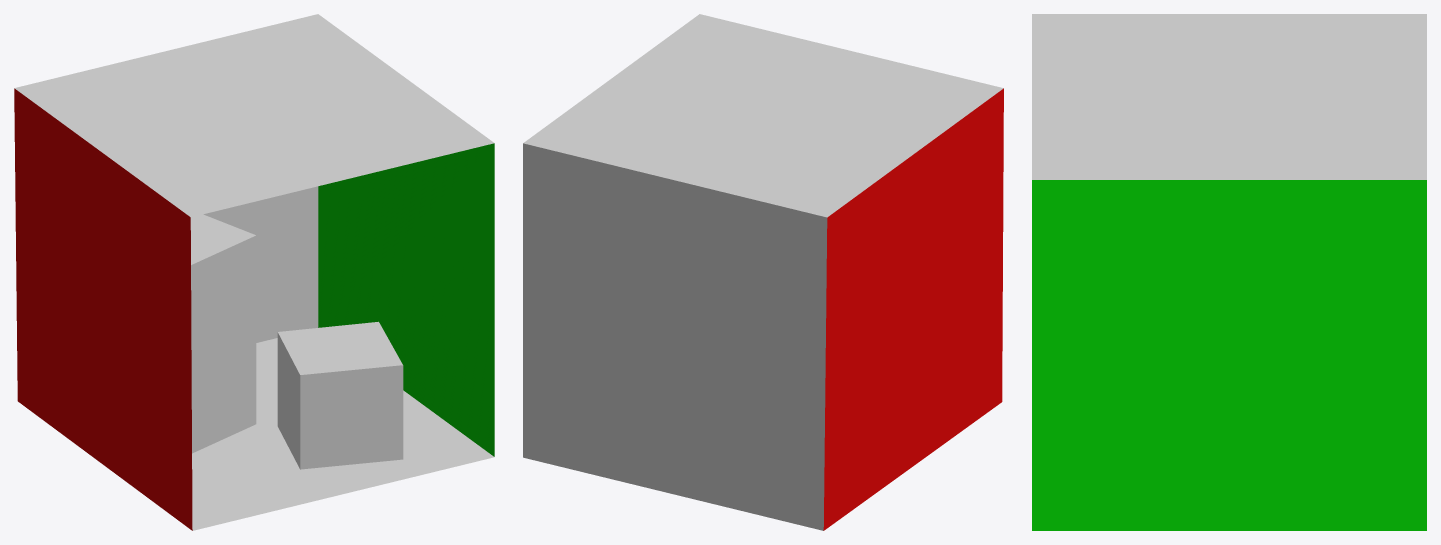
File: cornellbox.obj
3 renders of one model, left to right at view 1: azimuth 30°, elevation 25°; view 2: azimuth 150°, elevation 25°; view 3: azimuth 270°, elevation 25°, orthographic. The views are drawn at different scales.
Parts seen in each view (by area): view 1: ceiling; view 2: ceiling; view 3: ceiling.
Part boxes in pixels (box(x1,y1,x2,y2)): ceiling: box(14, 14, 494, 530); ceiling: box(523, 14, 1003, 530); ceiling: box(1032, 14, 1426, 530).
Size of the model in its own units: 29.02 by 28.64 by 29.19.
